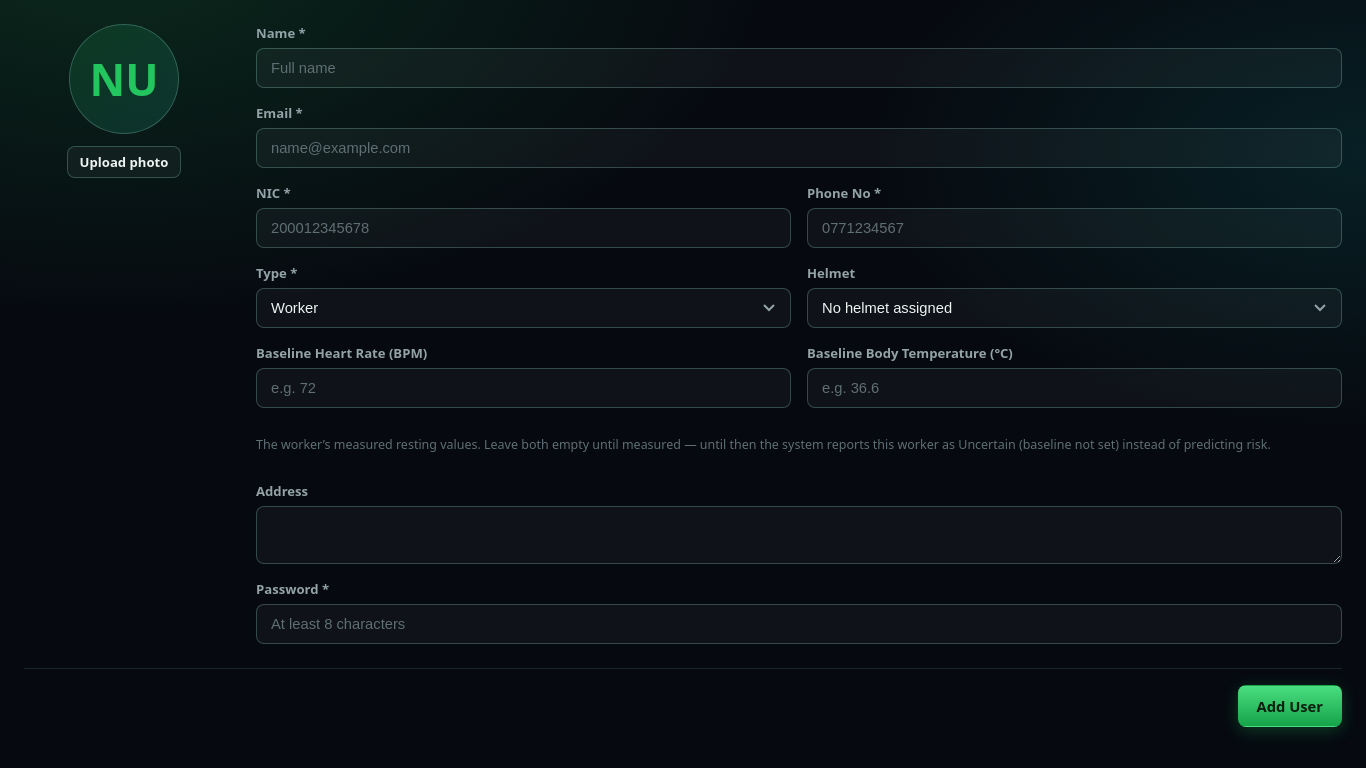
UserForm (add mode) › hides the Helmet field once Type is switched to Admin
The width and height of the screenshot is (1366, 768).
Expected: the dropdown labelled "Helmet" is shown, [807, 288, 1342, 328]
Select "Admin" in the dropdown labelled "Type *" at (524, 308), box [256, 288, 791, 328]
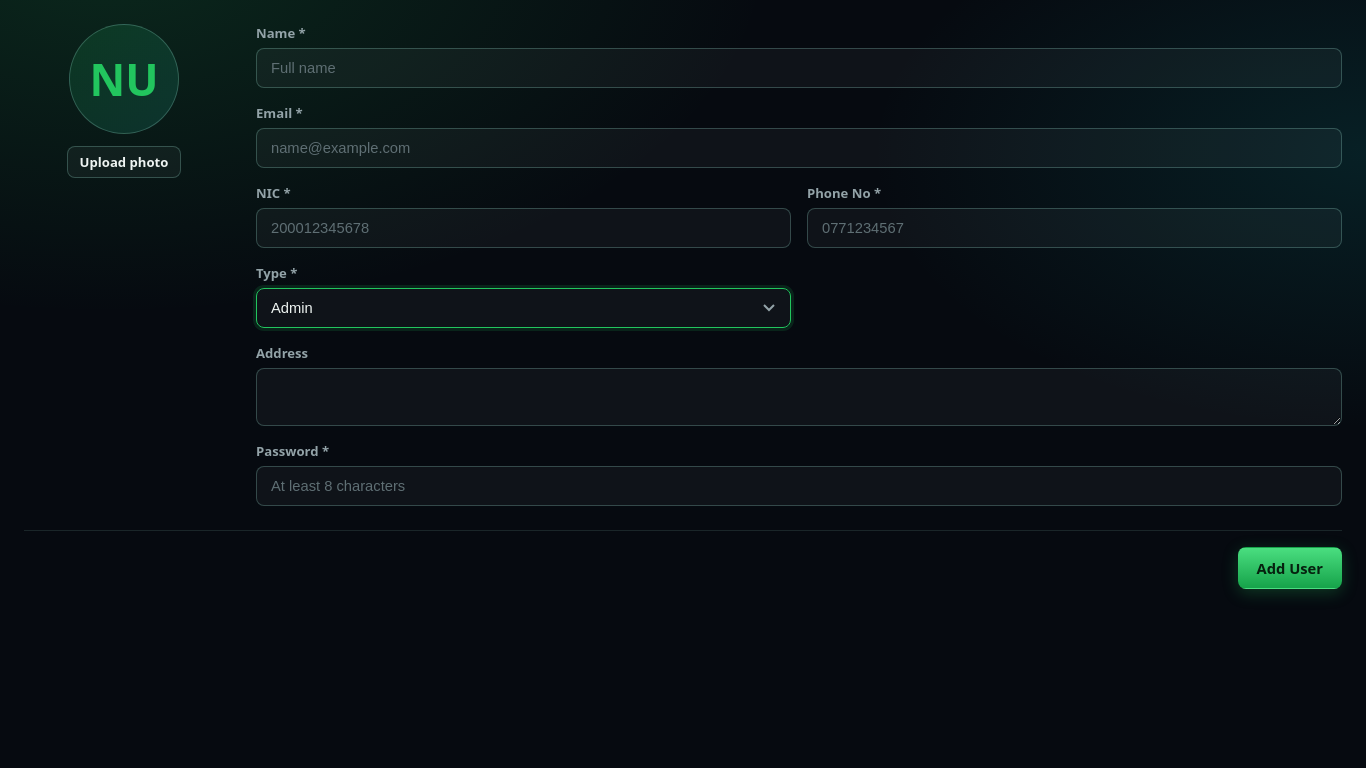
Now the label labelled "Helmet" is gone
